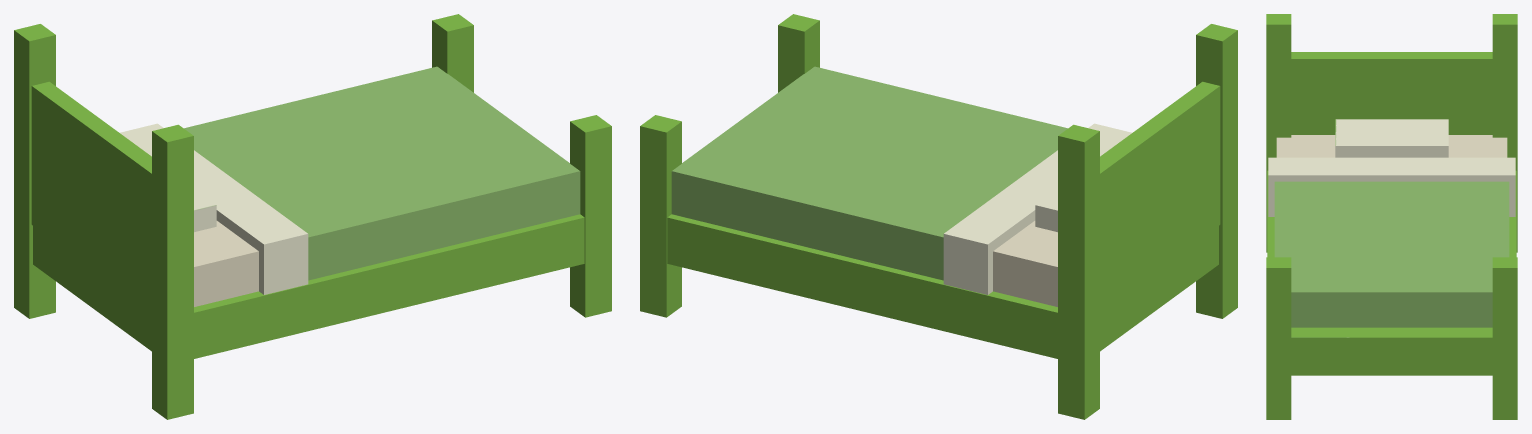
File: bed1_lightgreen_green.glb
The picture shows the model from 3 angles, left to right: view 1: azimuth 30°, elevation 25°; view 2: azimuth 150°, elevation 25°; view 3: azimuth 270°, elevation 25°; orthographic projection. The views are drawn at different scales.
Parts seen in each view (by area): view 1: Object007; view 2: Object007; view 3: Object007.
Part boxes in pixels (x1,y1,x2,y2): Object007: (14, 14, 611, 419); Object007: (640, 14, 1237, 419); Object007: (1266, 14, 1517, 419).
Size of the model in its own units: 0.2011 by 0.12 by 0.12.
1 material, 1 textured.
